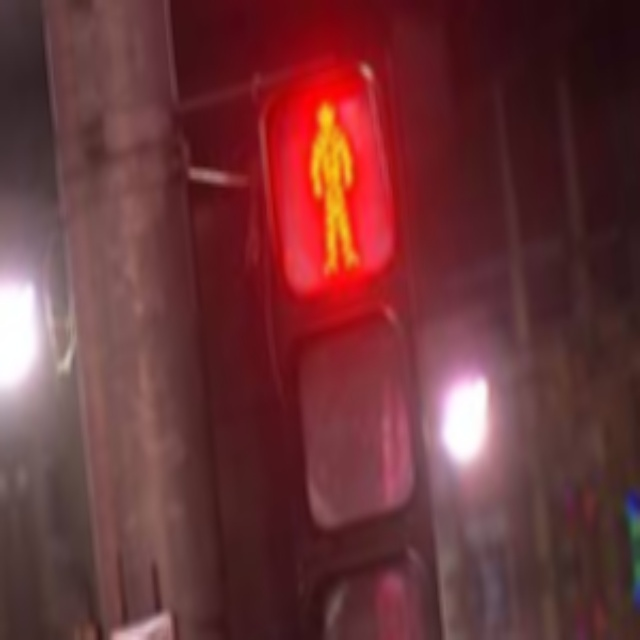red_light: (255, 56, 402, 309)
